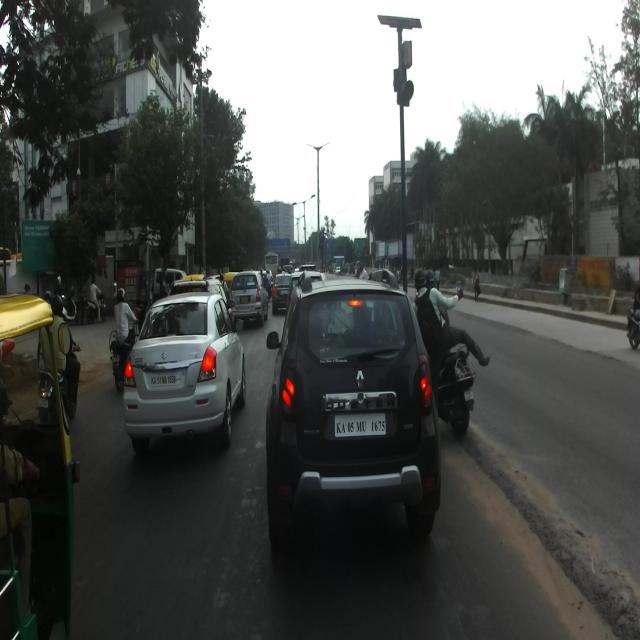autorickshaw: (0, 294, 79, 640)
car: (264, 269, 441, 551), (123, 292, 246, 454), (228, 270, 268, 325), (272, 270, 294, 314)
motorcycle: (109, 318, 139, 393), (85, 290, 107, 324), (626, 305, 640, 348)
scooter: (423, 318, 476, 438), (38, 340, 80, 420)
